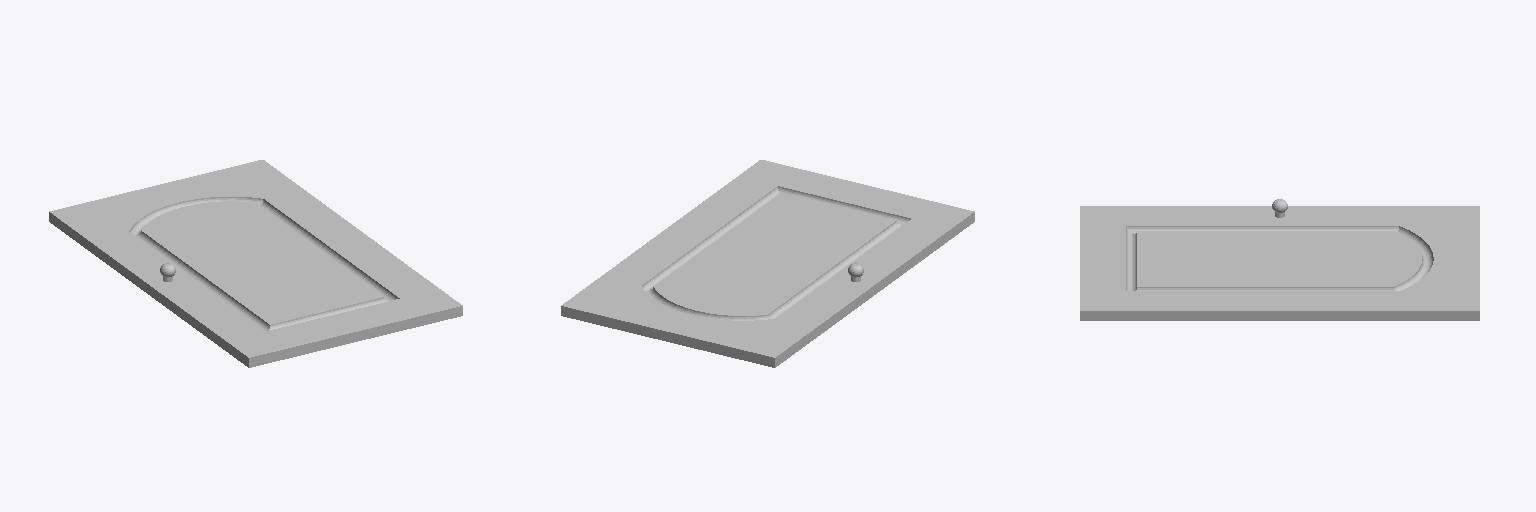
The model's file is door.obj.
3 views of the same model, side by side, from view 1: azimuth 30°, elevation 25°; view 2: azimuth 150°, elevation 25°; view 3: azimuth 270°, elevation 25° (orthographic).
Parts seen in each view (by area): view 1: Layer0_001; view 2: Layer0_001; view 3: Layer0_001.
Part boxes in pixels (left/top/right/bottom): Layer0_001: left=49, top=160, right=462, bottom=367; Layer0_001: left=561, top=160, right=974, bottom=367; Layer0_001: left=1080, top=199, right=1479, bottom=320.
Bounding box in the file's own units: 17.32 × 1.99 × 28.03.